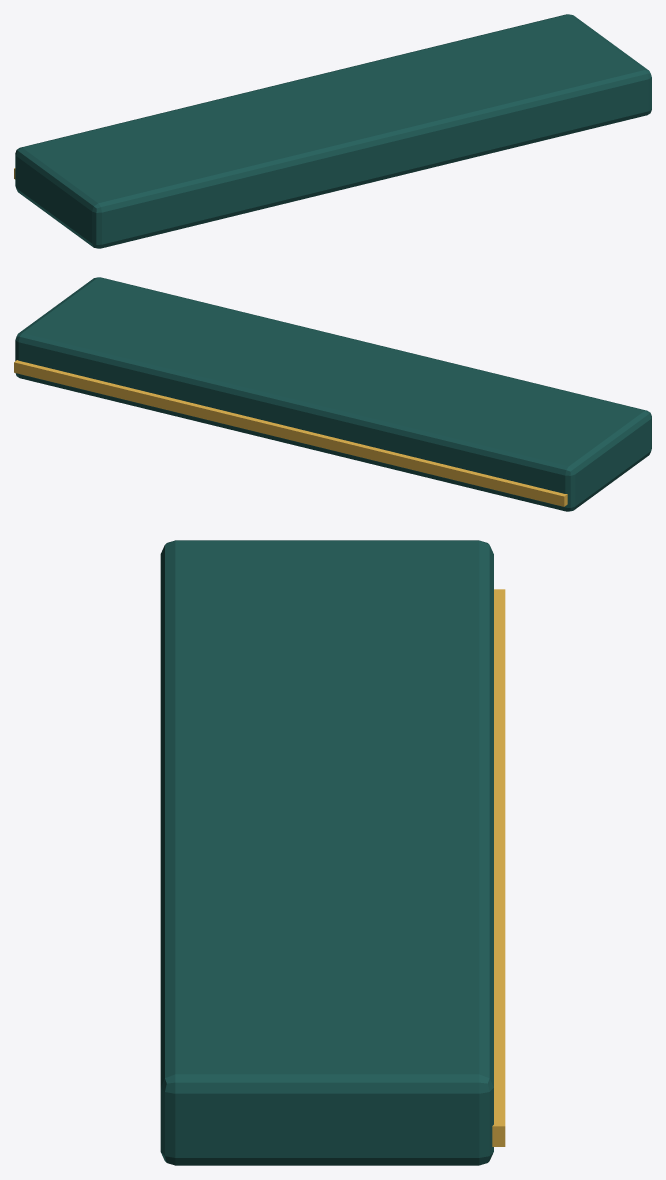
Rendered from entry-canopy.glb.
3 renders of one model, top to bottom at view 1: azimuth 30°, elevation 25°; view 2: azimuth 150°, elevation 25°; view 3: azimuth 270°, elevation 25°, orthographic. The views are drawn at different scales.
Parts seen in each view (by area): view 1: shell-apt-teal--1; view 2: shell-apt-teal--1, shell-apt-yellow--1; view 3: shell-apt-teal--1, shell-apt-yellow--1.
Boxes of the visible parts, x1=… form: shell-apt-teal--1: x1=15, y1=14, x2=651, y2=248; shell-apt-teal--1: x1=15, y1=277, x2=651, y2=511; shell-apt-yellow--1: x1=14, y1=360, x2=567, y2=506; shell-apt-teal--1: x1=160, y1=540, x2=493, y2=1165; shell-apt-yellow--1: x1=492, y1=589, x2=505, y2=1146.
Bounding box in the file's own units: 3.1 × 0.2775 × 0.8275.
